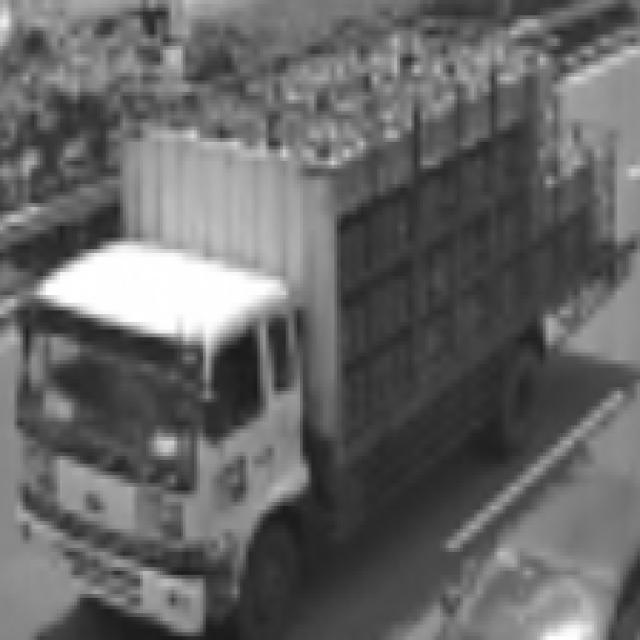truck: (1, 228, 326, 640)
